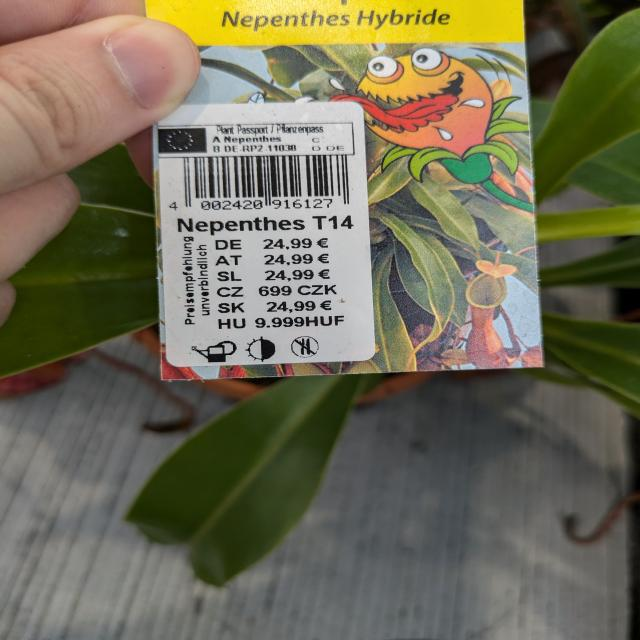halb sonnig schattig: (247, 330, 285, 369)
mittel giesen: (196, 338, 246, 370)
